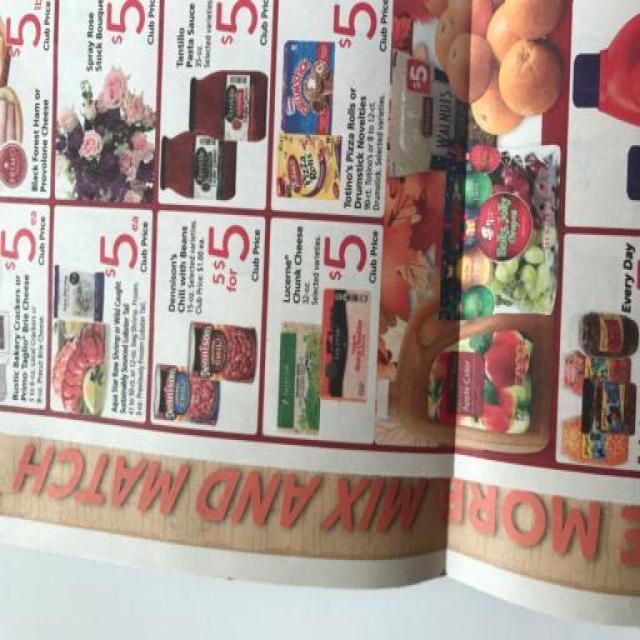paper: (0, 0, 640, 626)
